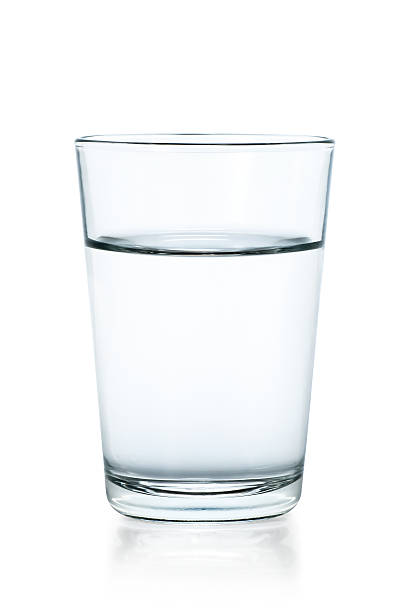glass of water: (65, 126, 342, 521)
